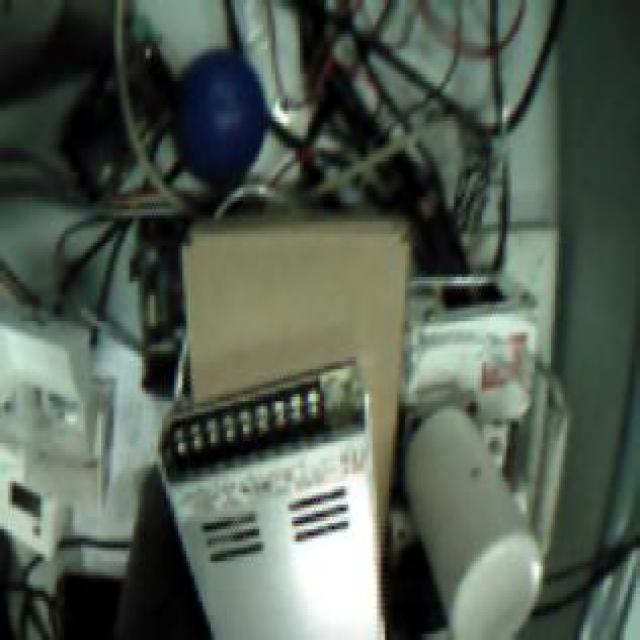BallPurple: (170, 45, 267, 185)
